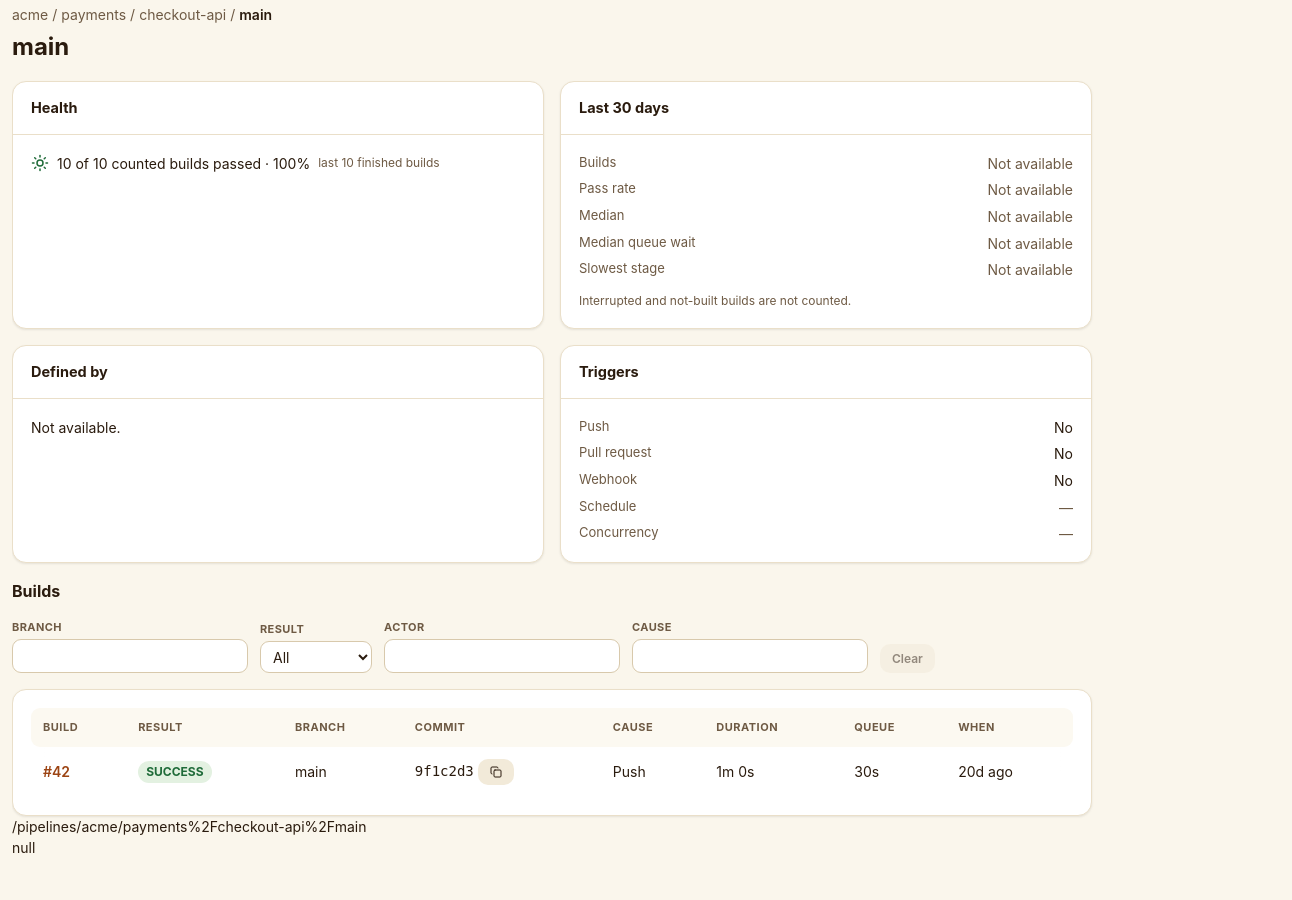
PipelinePage › offers a Result select with the six results and writes result=FAILURE to the URL
Expected: the table is shown, [31, 708, 1073, 797]
Select "Failure" in the dropdown labelled "Result" at (316, 657), box [260, 641, 372, 673]
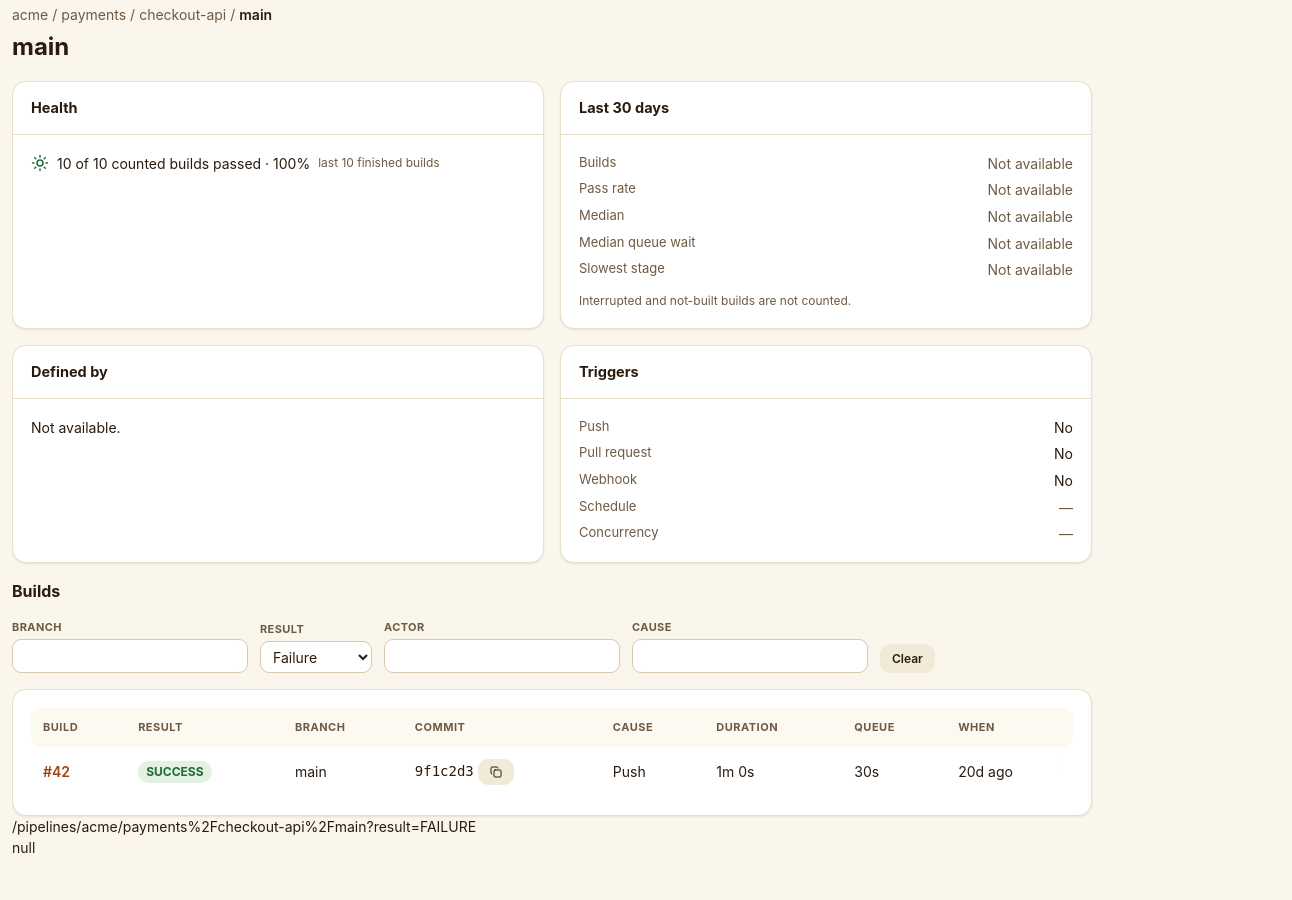
Expected: the text with test id "location" shows "result=FAILURE", [366, 818, 476, 835]
